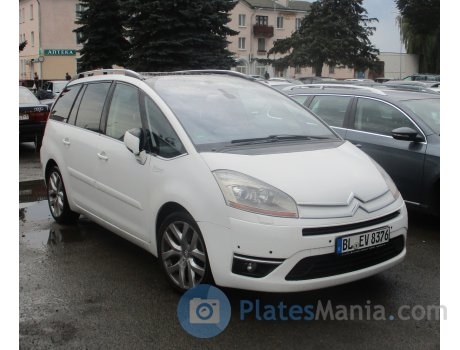License Plates: (339, 237, 389, 247)
